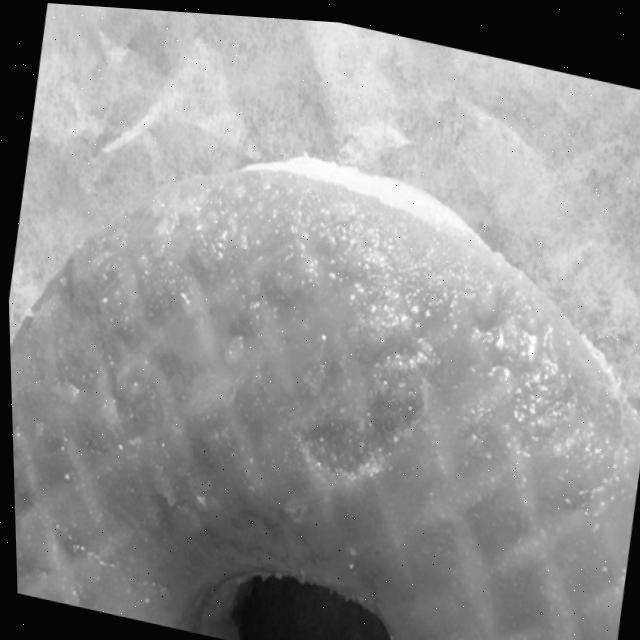炸货点心: (1, 24, 640, 640)
